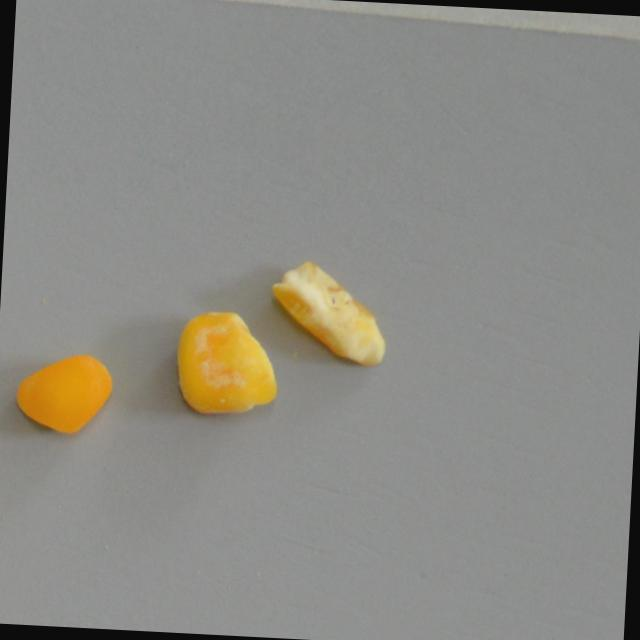estandar: (13, 348, 115, 437)
pelicula: (174, 307, 280, 417)
punto_negro: (267, 258, 392, 368)
